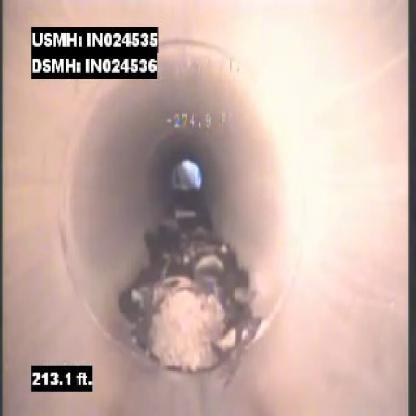Debris: (117, 255, 272, 378)
